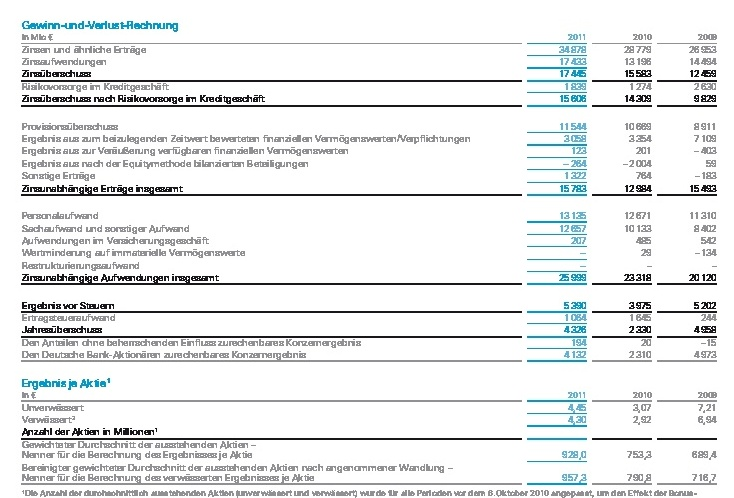table: (0, 0, 734, 498)
